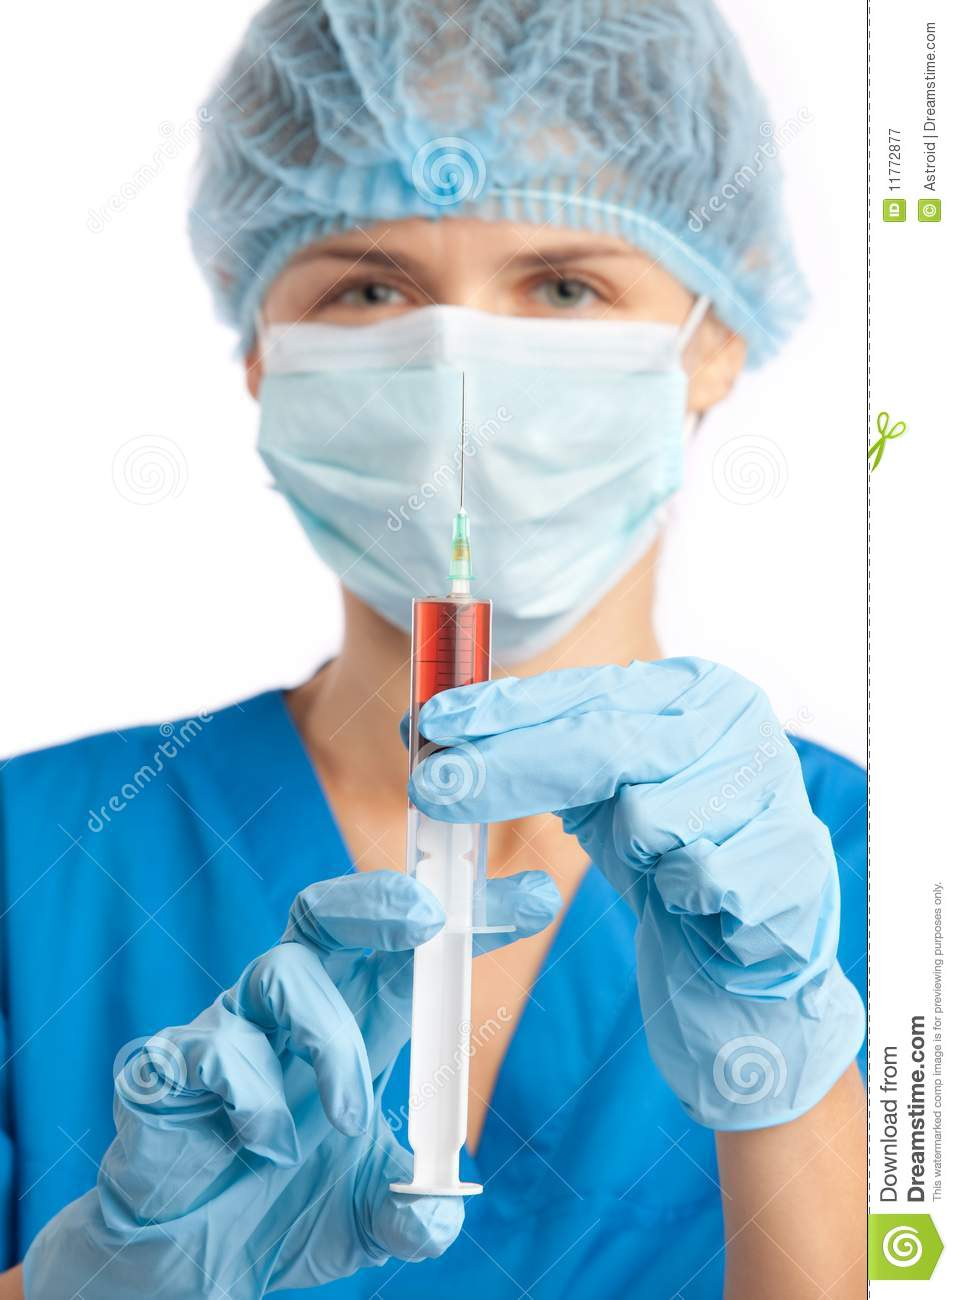mask: (256, 315, 702, 671)
